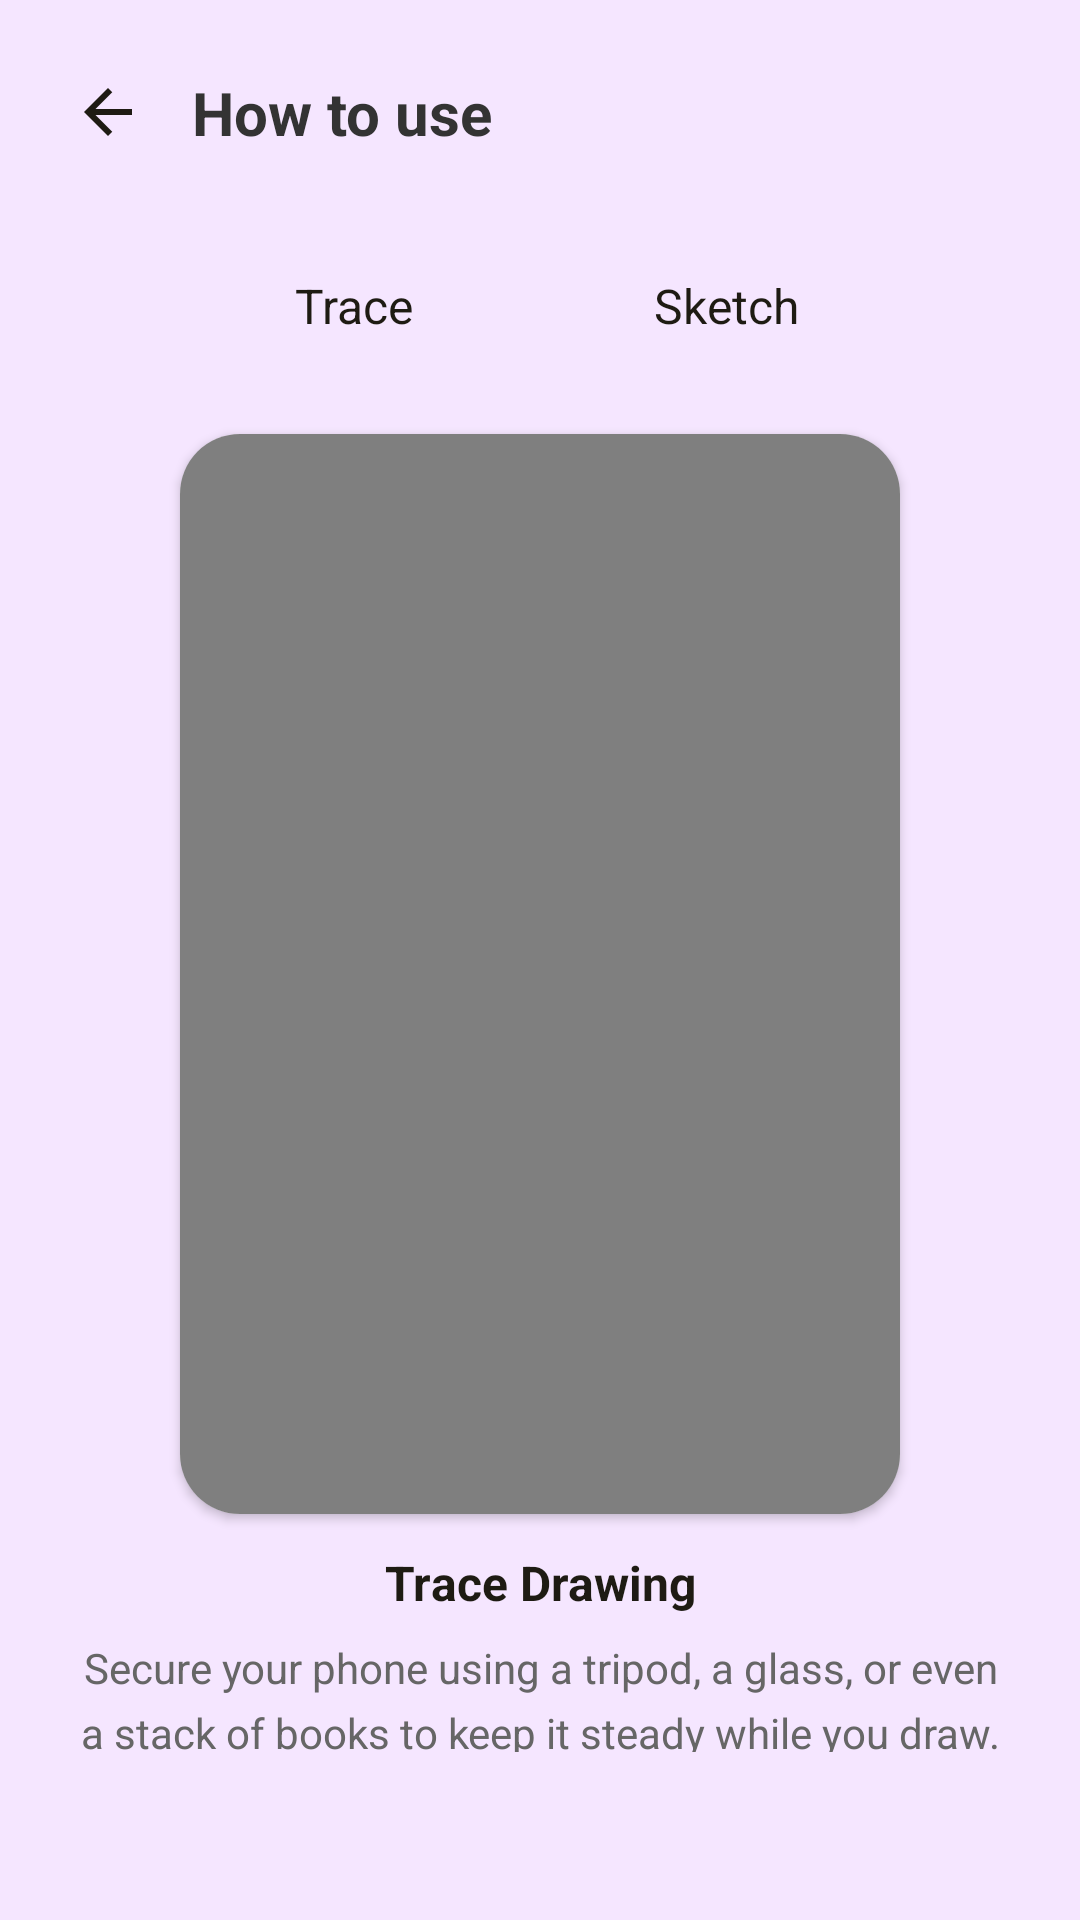

Icon bounding boxes for this 1080px×1920px phone screenshot, format box=[x1, y1, x2, y2]:
arrow back: box=[84, 88, 132, 136]
